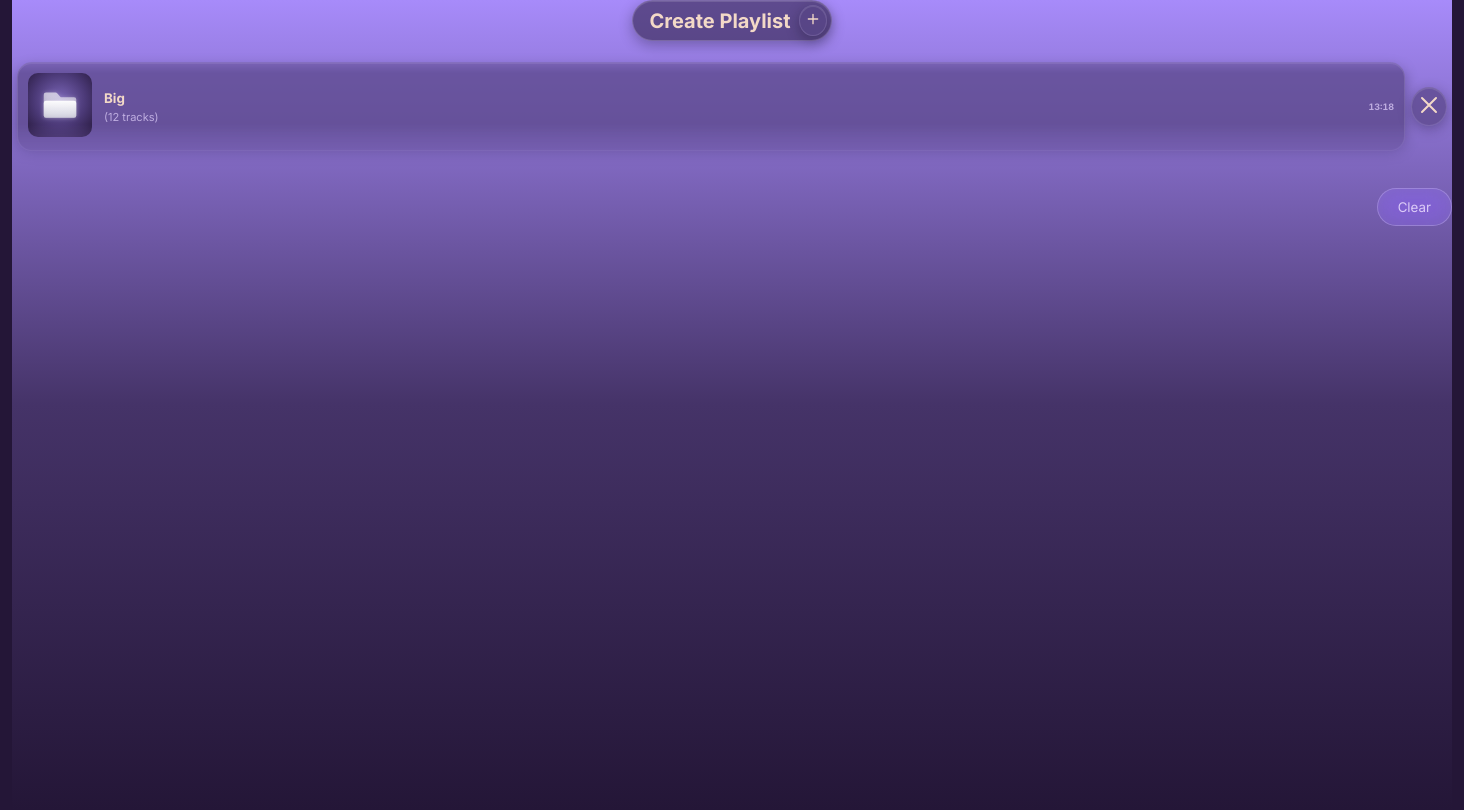
Test: PlaylistSelectionList › opening a playlist › paginates tracks inside a playlist
What coordinates should you click on to do the following:
click the button "Big (12 tracks) 13:18"
I would click on:
 (60, 105)
Its box is [17, 62, 1405, 151].
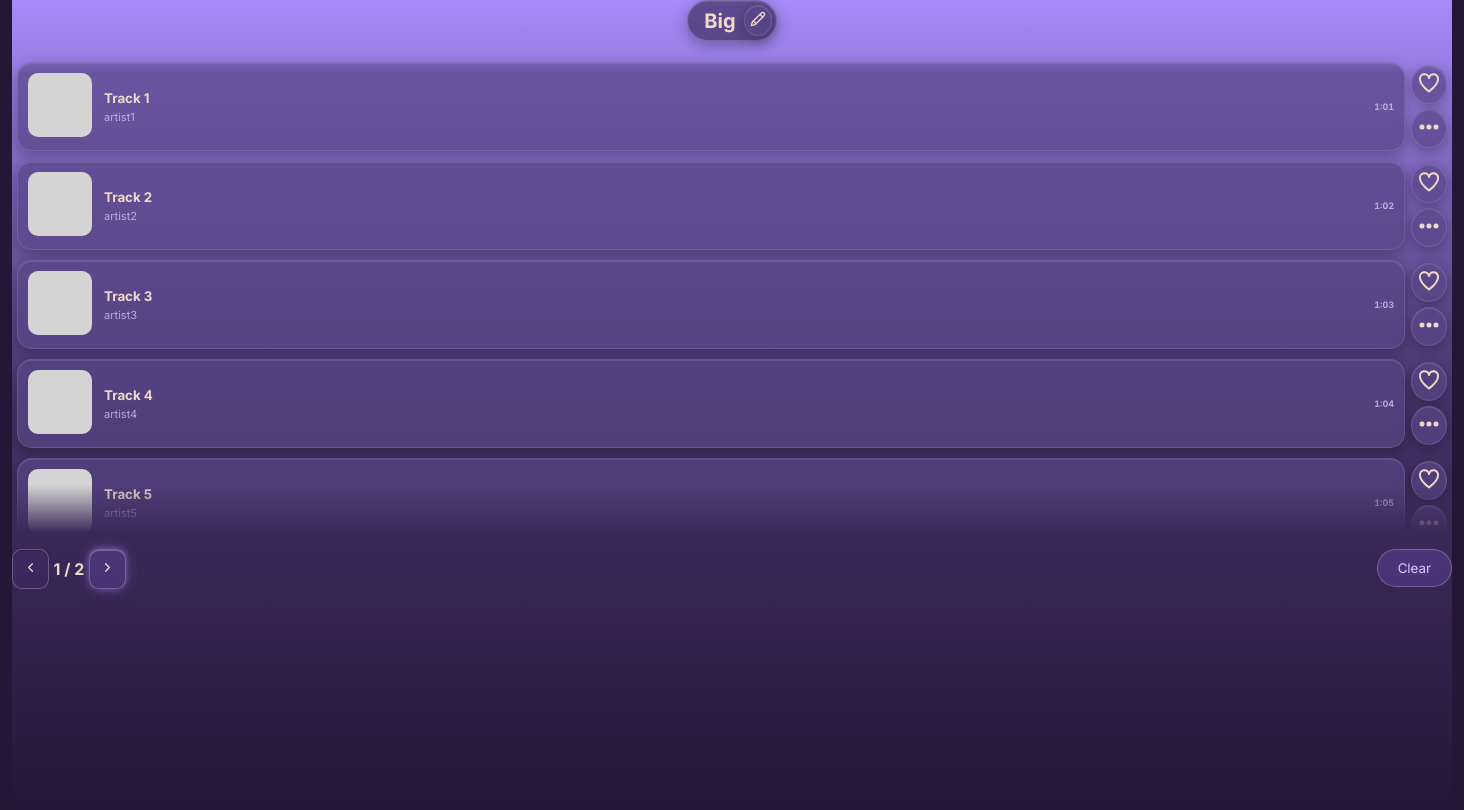
Check: the text "Track 11" is not shown
What coordinates should you click on to do the following:
click the 2nd button with alt text "next"
I would click on:
 (107, 569)
Its box is [89, 549, 126, 589].
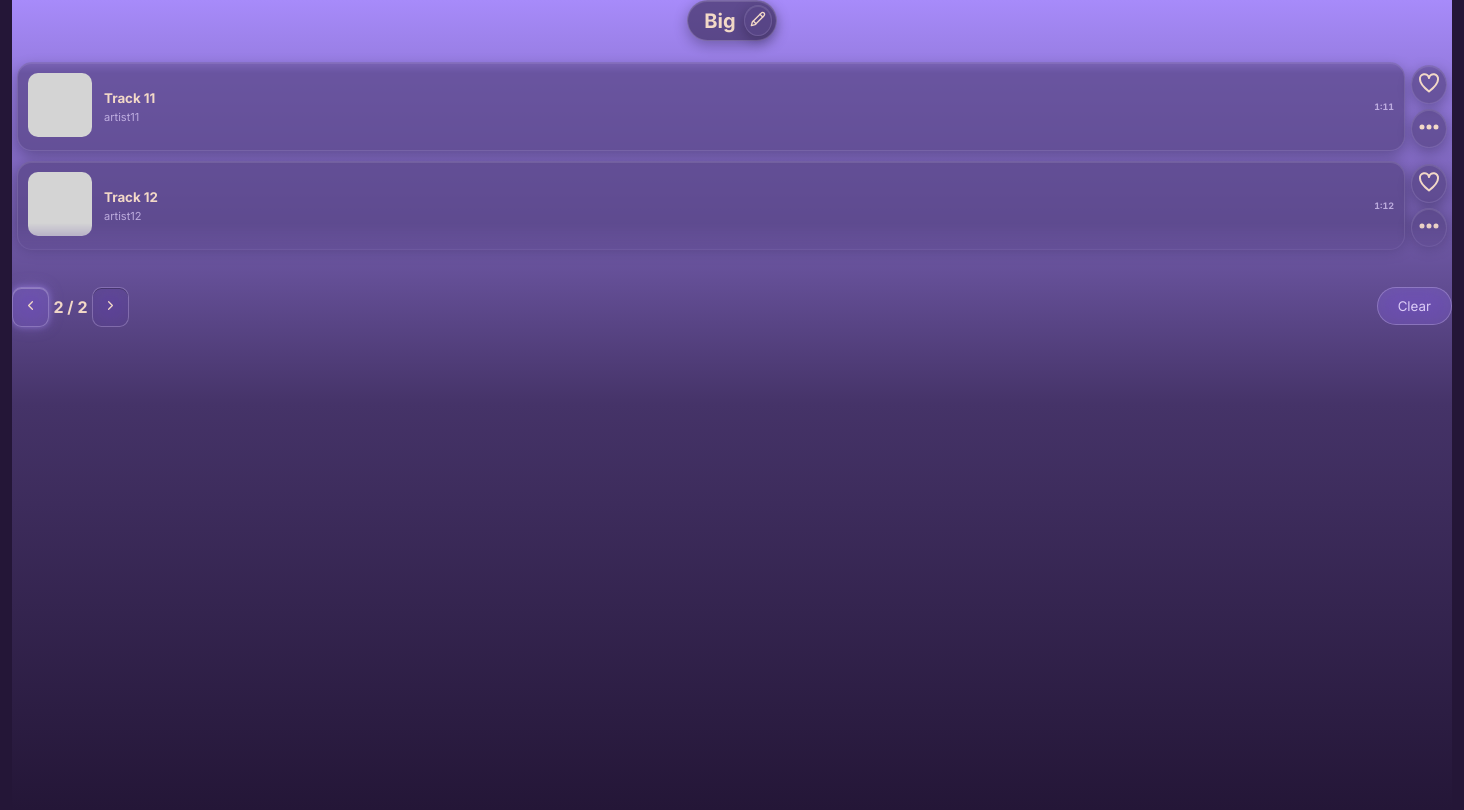
Check: the heading "Track 11" is shown, box [104, 90, 155, 106]
